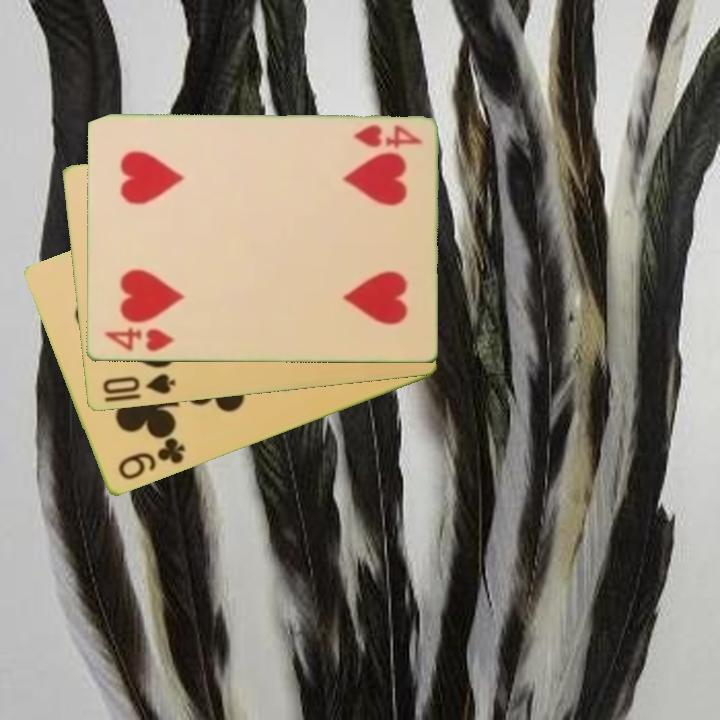10s: (99, 370, 178, 398)
4h: (101, 324, 177, 355), (350, 121, 425, 152)
9c: (114, 434, 188, 484)
